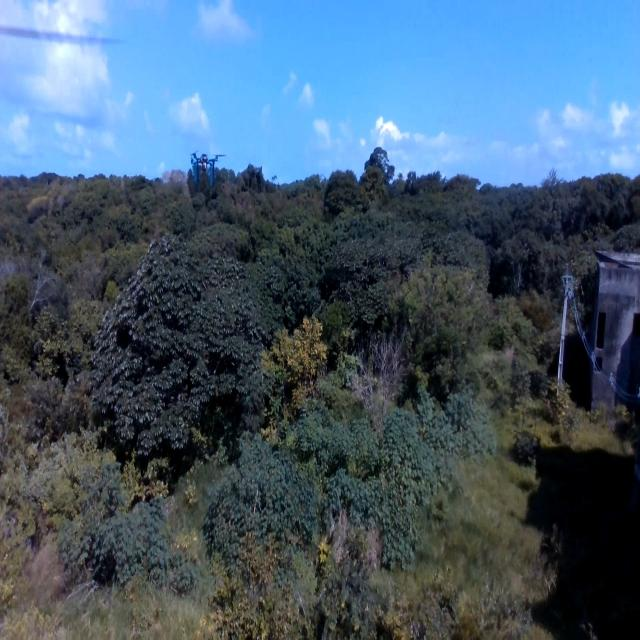-uav-: (182, 144, 228, 192)
